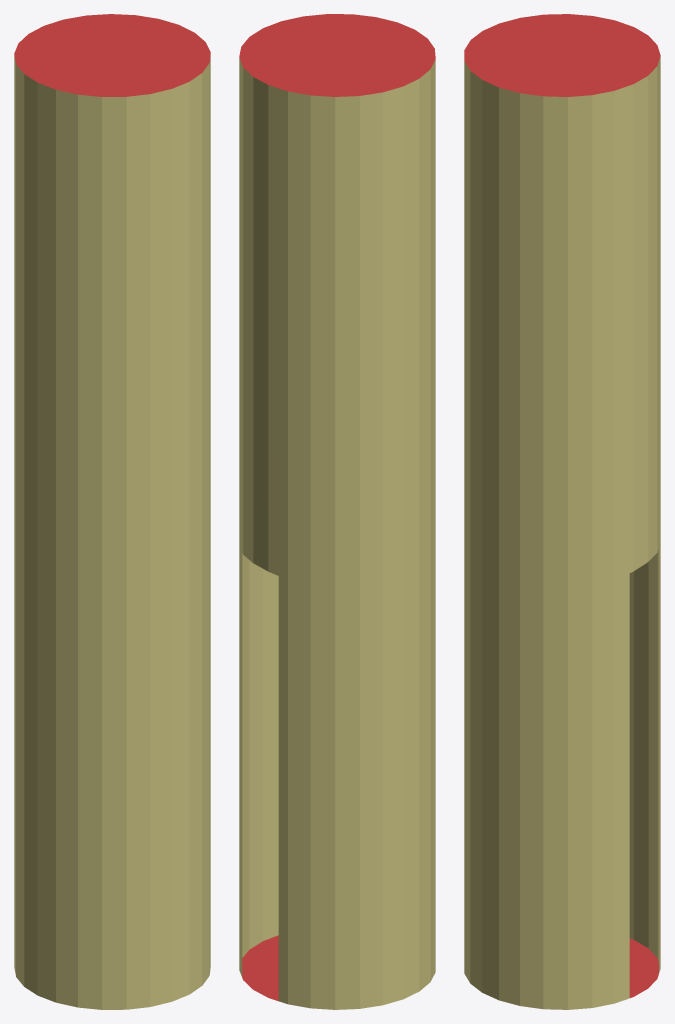
3 views of the same model, side by side, from view 1: azimuth 30°, elevation 25°; view 2: azimuth 150°, elevation 25°; view 3: azimuth 270°, elevation 25° (orthographic).
Size of the model in its own units: 2.68 by 2.67 by 13.72.
